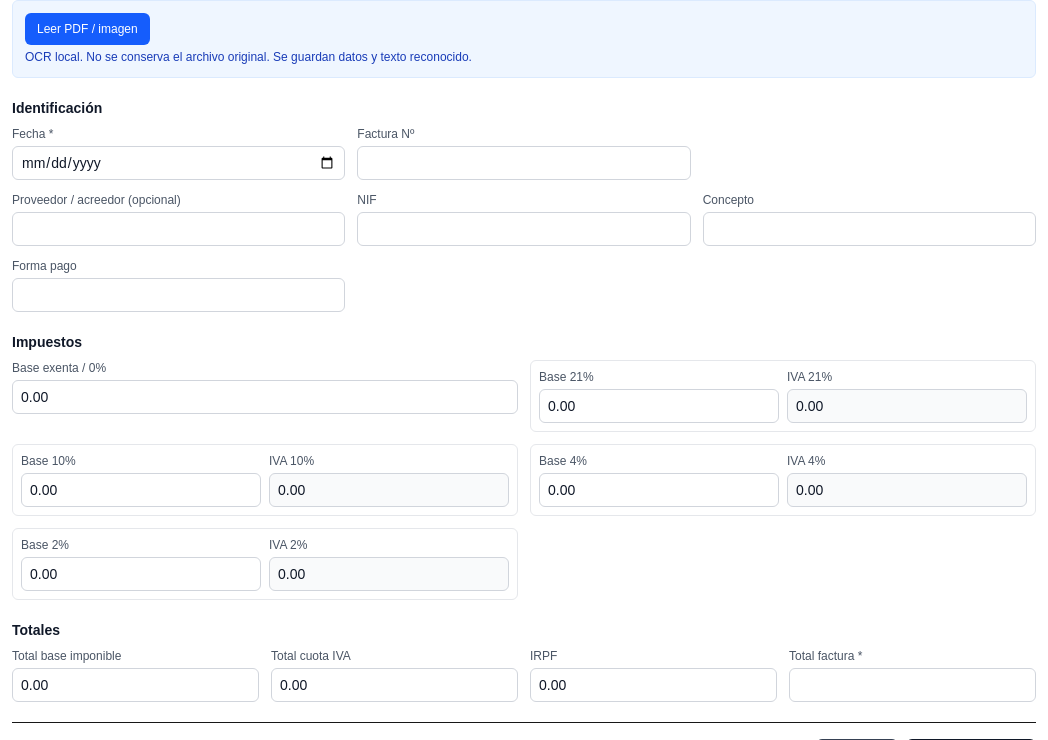
Test: AccountingInvoiceForm › calculates the VAT when a manual taxable base is entered
The width and height of the screenshot is (1048, 740).
Replace the text in the number field labelled "Base 21%" with "100" at (659, 406), box x1=539 y1=389 x2=779 y2=423
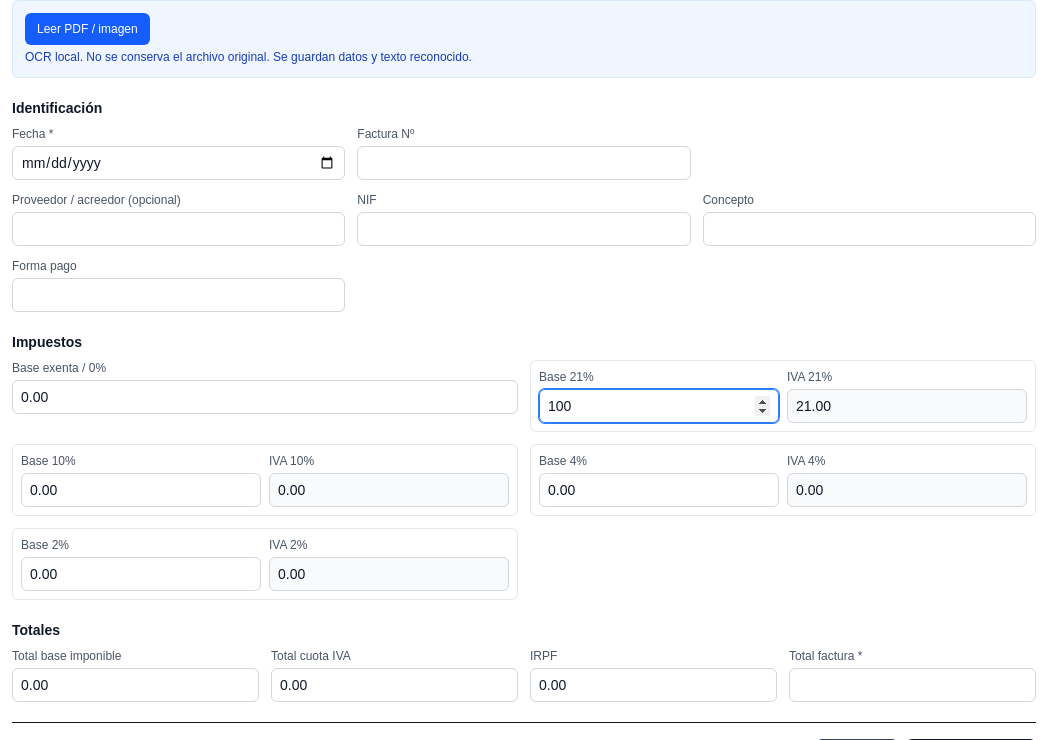
Expected: the number field labelled "IVA 21%" holds "21", x1=787 y1=389 x2=1027 y2=423
